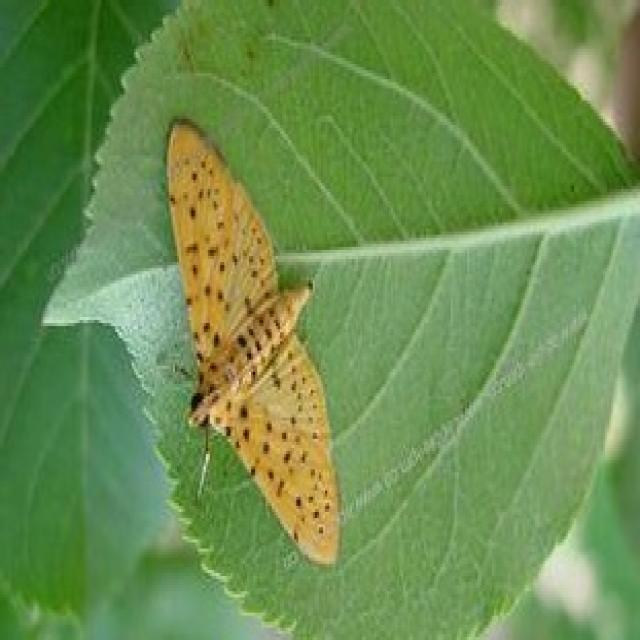peach borer: (141, 117, 347, 568)
